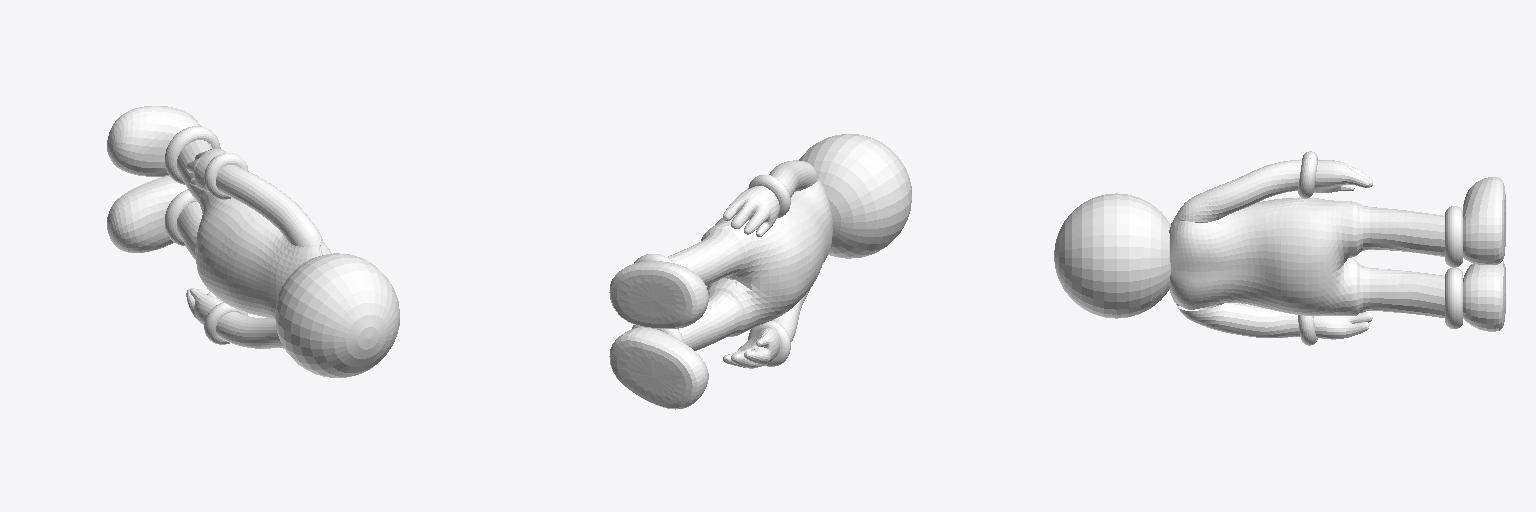
The model's file is giant.obj.
The picture shows the model from 3 angles: view 1: azimuth 30°, elevation 25°; view 2: azimuth 150°, elevation 25°; view 3: azimuth 270°, elevation 25°; orthographic projection.
Parts seen in each view (by area): view 1: Sphere.001, Body.002_Plane.014, Shoe.001_Plane.013, Arm.001_Plane.015, Torus.005, Retopo_Mesh.007_Plane.016; view 2: Body.002_Plane.014, Shoe.001_Plane.013, Sphere.001, Retopo_Mesh.007_Plane.016, Arm.001_Plane.015, Torus.005; view 3: Body.002_Plane.014, Sphere.001, Shoe.001_Plane.013, Arm.001_Plane.015, Retopo_Mesh.007_Plane.016, Torus.005.
Part boxes in pixels (bbox=[...]): Sphere.001: bbox=[275, 253, 399, 377]; Body.002_Plane.014: bbox=[177, 140, 331, 320]; Shoe.001_Plane.013: bbox=[107, 106, 220, 252]; Arm.001_Plane.015: bbox=[216, 165, 322, 348]; Torus.005: bbox=[204, 153, 248, 344]; Retopo_Mesh.007_Plane.016: bbox=[186, 148, 226, 324]; Body.002_Plane.014: bbox=[667, 179, 832, 350]; Shoe.001_Plane.013: bbox=[609, 254, 708, 409]; Sphere.001: bbox=[799, 134, 911, 258]; Retopo_Mesh.007_Plane.016: bbox=[723, 186, 779, 368]; Arm.001_Plane.015: bbox=[769, 160, 818, 341]; Torus.005: bbox=[748, 175, 790, 366]; Body.002_Plane.014: bbox=[1169, 197, 1444, 317]; Sphere.001: bbox=[1054, 193, 1170, 318]; Shoe.001_Plane.013: bbox=[1445, 177, 1505, 331]; Arm.001_Plane.015: bbox=[1177, 160, 1301, 337]; Retopo_Mesh.007_Plane.016: bbox=[1314, 160, 1372, 339]; Torus.005: bbox=[1298, 151, 1317, 345].
Size of the model in its own units: 13.78 by 23.02 by 49.68.